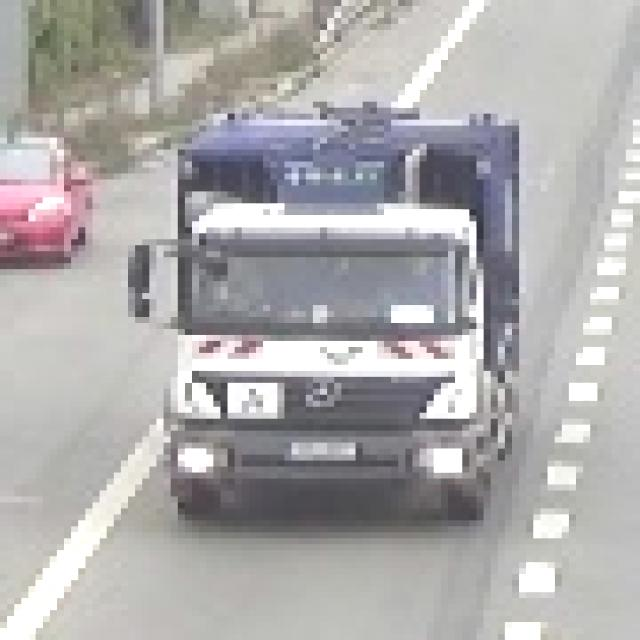truck: (135, 90, 533, 520)
